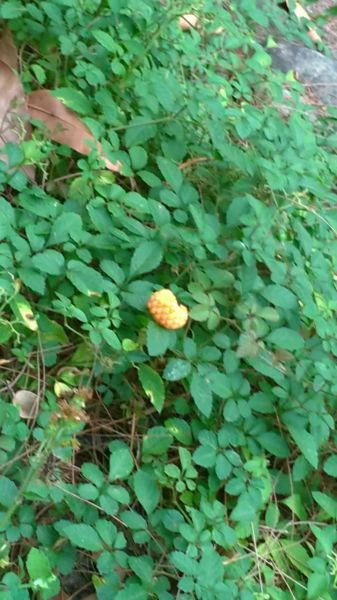eggs: (140, 282, 192, 334)
